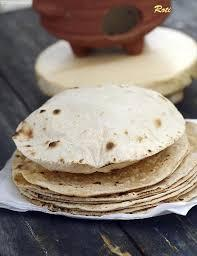roti phulka: (10, 88, 197, 214)
